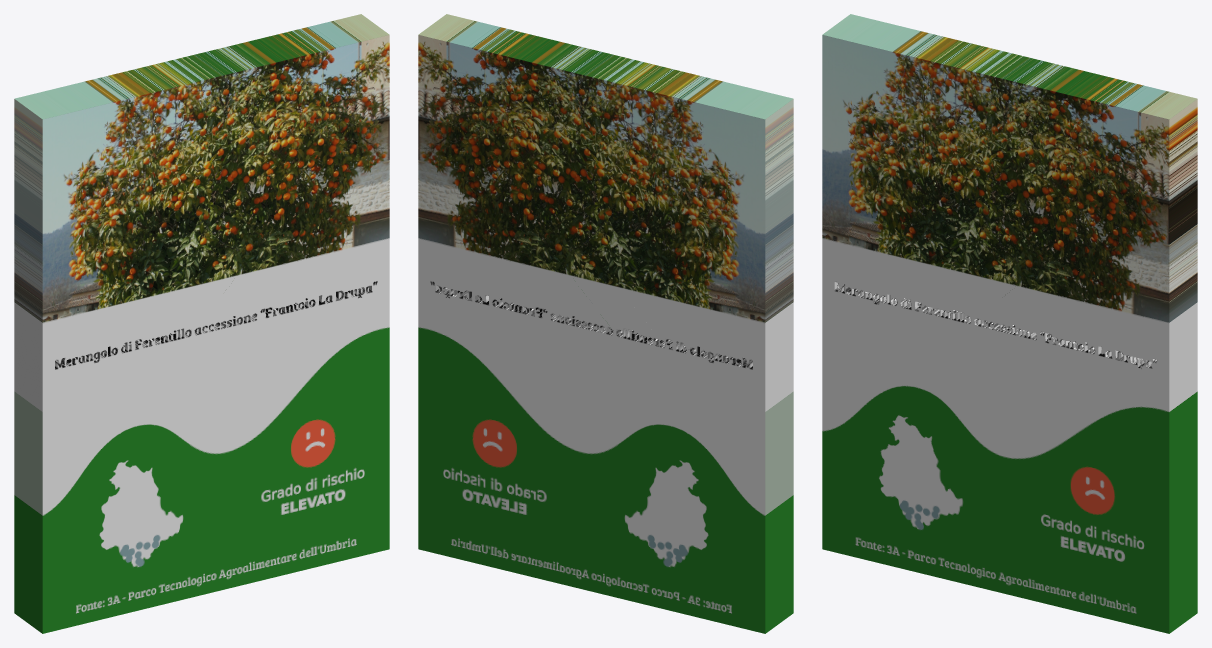
The picture shows the model from 3 angles, left to right: view 1: azimuth 30°, elevation 25°; view 2: azimuth 150°, elevation 25°; view 3: azimuth 330°, elevation 25°; orthographic projection.
Size of the model in its own units: 0.1542 by 0.2184 by 0.0219.
1 material, 1 textured.
